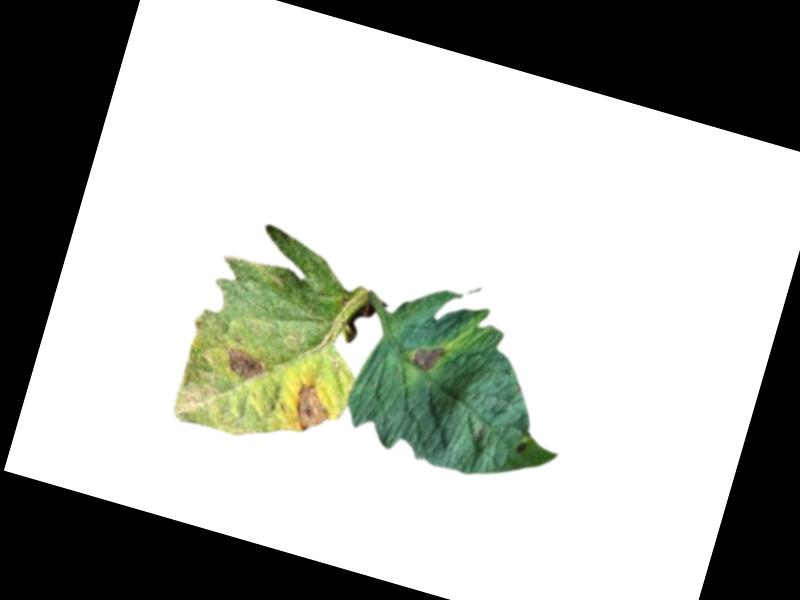Early_blight: (288, 380, 338, 438), (221, 345, 272, 386), (410, 343, 447, 376), (514, 441, 531, 457)
